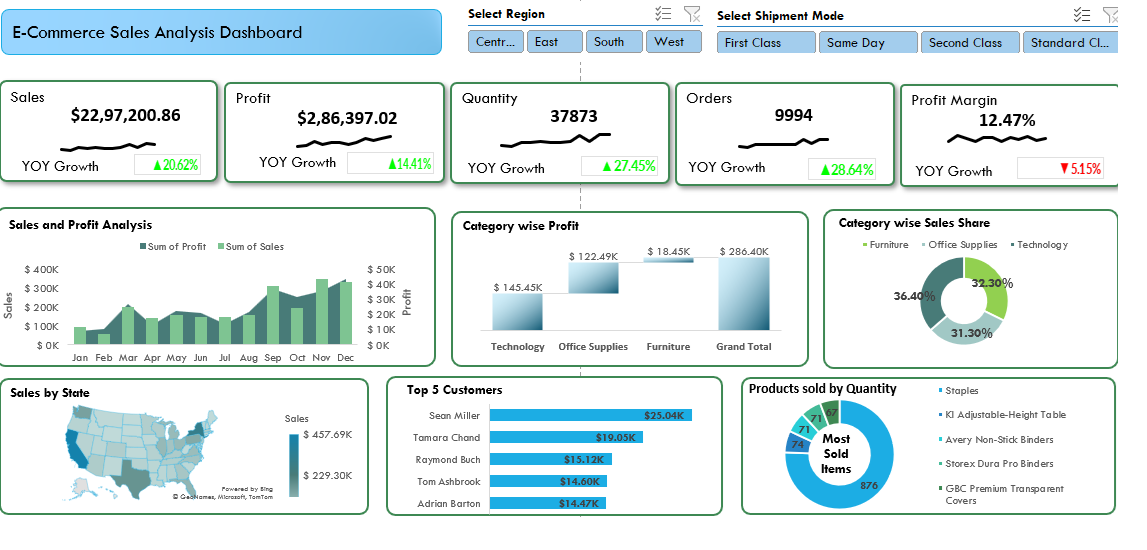

Layout of this report page (visuals, bound fields, positions):
{"tool":"powerbi","page":{"name":"Page 2","canvas":[1280,720],"ordinal":1},"visuals":[{"type":"ribbonChart","title":"Sales and Profit Analysis","fields":{"Category":["Table_1.Ship Date.Variation.Date Hierarchy.Month"],"Y":["Sum(Table_1.Sales)","Sum(Table_1.Profit)"]},"box":[15.6,271.4,380.3,182.9],"z":0},{"type":"cardVisual","fields":{"Data":["Sum(Table_1.Sales)","Sum(Table_1.Profit)","Sum(Table_1.Quantity)","Sum(Table_1.Discount)"]},"box":[0,140.1,816,131.3],"z":1000},{"type":"advancedSlicerVisual","fields":{"Values":["Table_1.Region"]},"box":[804.4,69.1,451.3,82.7],"z":2000},{"type":"advancedSlicerVisual","fields":{"Values":["Table_1.Ship Mode"]},"box":[804.4,158.5,451.3,88.5],"z":3000},{"type":"textbox","box":[15.6,69.1,782,71],"z":4000},{"type":"waterfallChart","title":" Category Wise Profit","fields":{"Category":["Table_1.Category"],"Y":["Sum(Table_1.Profit)"]},"box":[425,271.4,379.3,182.9],"z":5000},{"type":"donutChart","fields":{"Y":["Sum(Table_1.Sales)"],"Category":["Table_1.Category"]},"box":[804,271,451,183],"z":6000},{"type":"filledMap","fields":{"Series":["Table 4 (Map Chart).Sales"],"Category":["Table 4 (Map Chart).State"]},"box":[15.6,468.8,380.3,199.4],"z":7000},{"type":"clusteredBarChart","title":"Top 5 customer sales","fields":{"Y":["Sum(Row Labels (Top 5 Customers).Sum of Sales)"],"Category":["Row Labels (Top 5 Customers).Row Labels"]},"box":[425,469,379,199],"z":7001},{"type":"donutChart","title":"Product sold by Quantity by ","fields":{"Category":["Row Labels (Top 5 Customers) (2).Row Labels"],"Y":["Sum(Row Labels (Top 5 Customers) (2).Sum of Quantity)"]},"box":[804,469,451,199],"z":7002}]}

Visuals, with their boxes on the page's 1280x720 design canvas (x1, y1, x2, y2). These are canvas units, not pixel positions in the 1147x550 screenshot, which may show the page scaled, cropped or inside an application window:
"Sales and Profit Analysis" ribbonChart: left=16, top=271, right=396, bottom=454
cardVisual - Sum(Table_1.Sales) x Sum(Table_1.Profit): left=0, top=140, right=816, bottom=271
advancedSlicerVisual - Table_1.Region: left=804, top=69, right=1256, bottom=152
advancedSlicerVisual - Table_1.Ship Mode: left=804, top=158, right=1256, bottom=247
textbox: left=16, top=69, right=798, bottom=140
" Category Wise Profit" waterfallChart: left=425, top=271, right=804, bottom=454
donutChart - Sum(Table_1.Sales) x Table_1.Category: left=804, top=271, right=1255, bottom=454
filledMap - Table 4 (Map Chart).Sales x Table 4 (Map Chart).State: left=16, top=469, right=396, bottom=668
"Top 5 customer sales" clusteredBarChart: left=425, top=469, right=804, bottom=668
"Product sold by Quantity by " donutChart: left=804, top=469, right=1255, bottom=668
